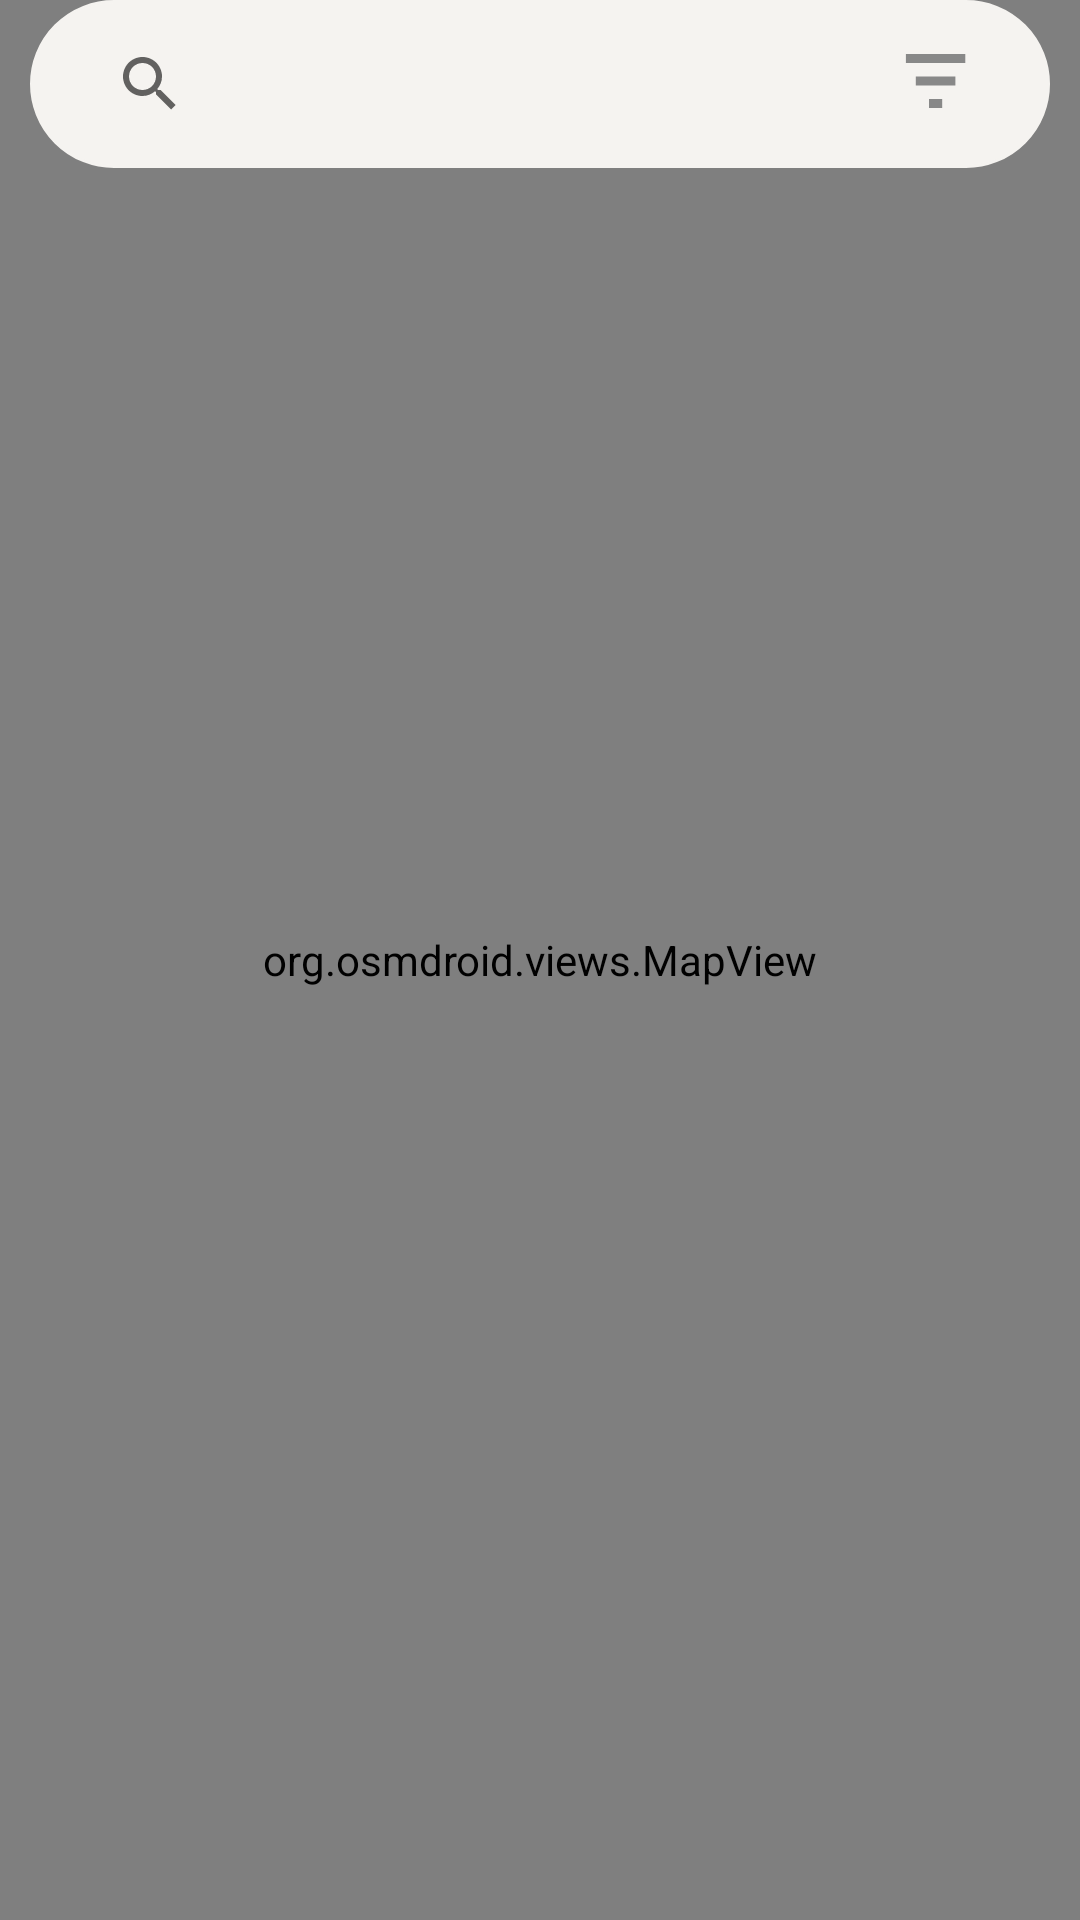

Screen size 1080w x 1920h. Icon name, then its box in pixels as (x1, y1, x2, y2):
filter: (906, 54, 966, 108)
